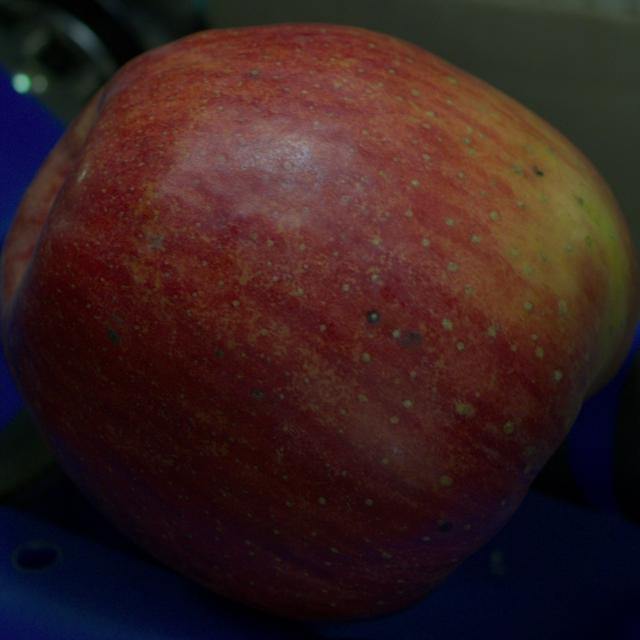apple: (0, 24, 639, 618)
pest: (403, 332, 422, 345), (108, 328, 120, 343), (366, 311, 380, 323), (439, 522, 452, 532), (534, 166, 544, 174), (249, 70, 260, 76)
